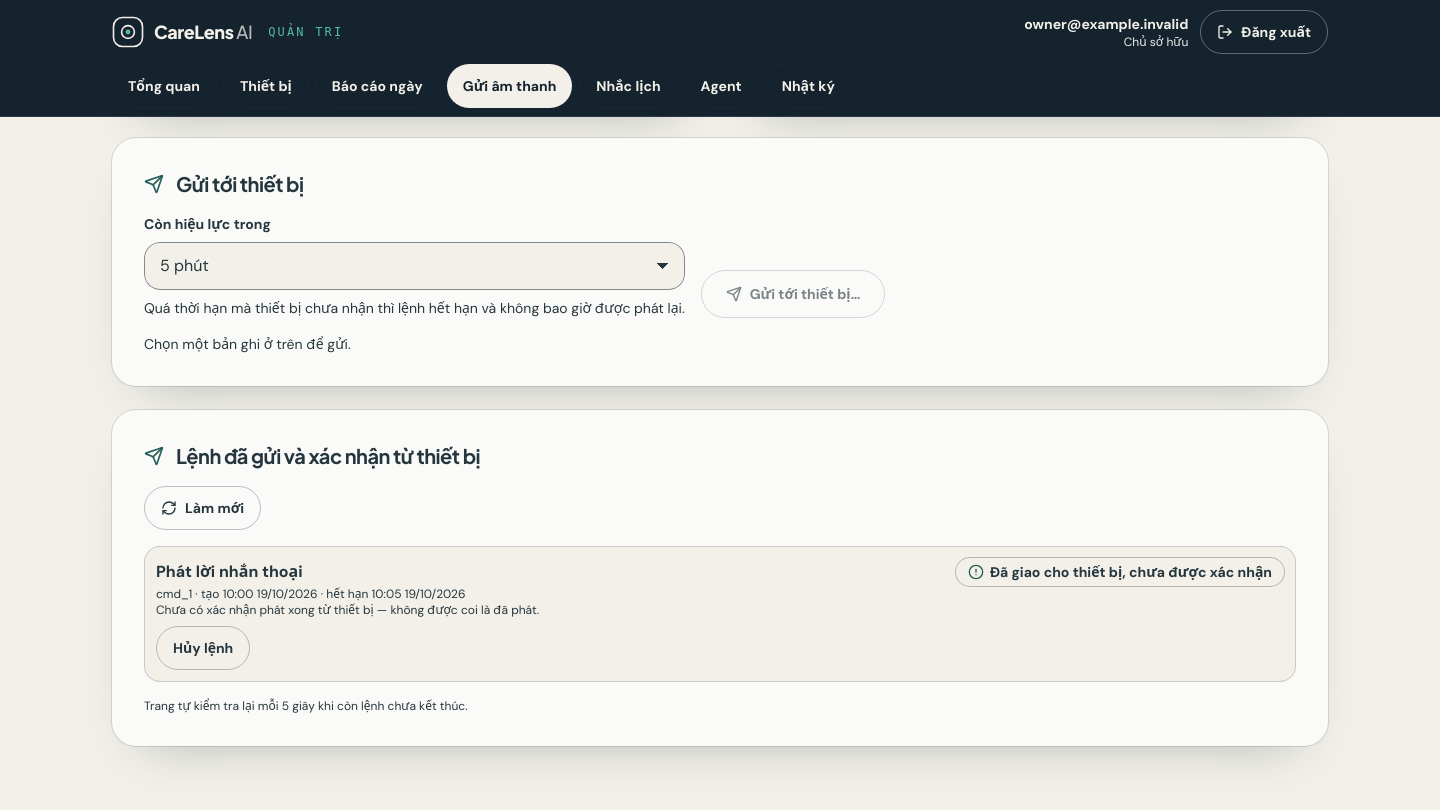
Test: audio messages › cancels an open command and says the device must still confirm
(page scrolled)
Click the button "Hủy lệnh" at x=203, y=648, box [156, 626, 250, 670]
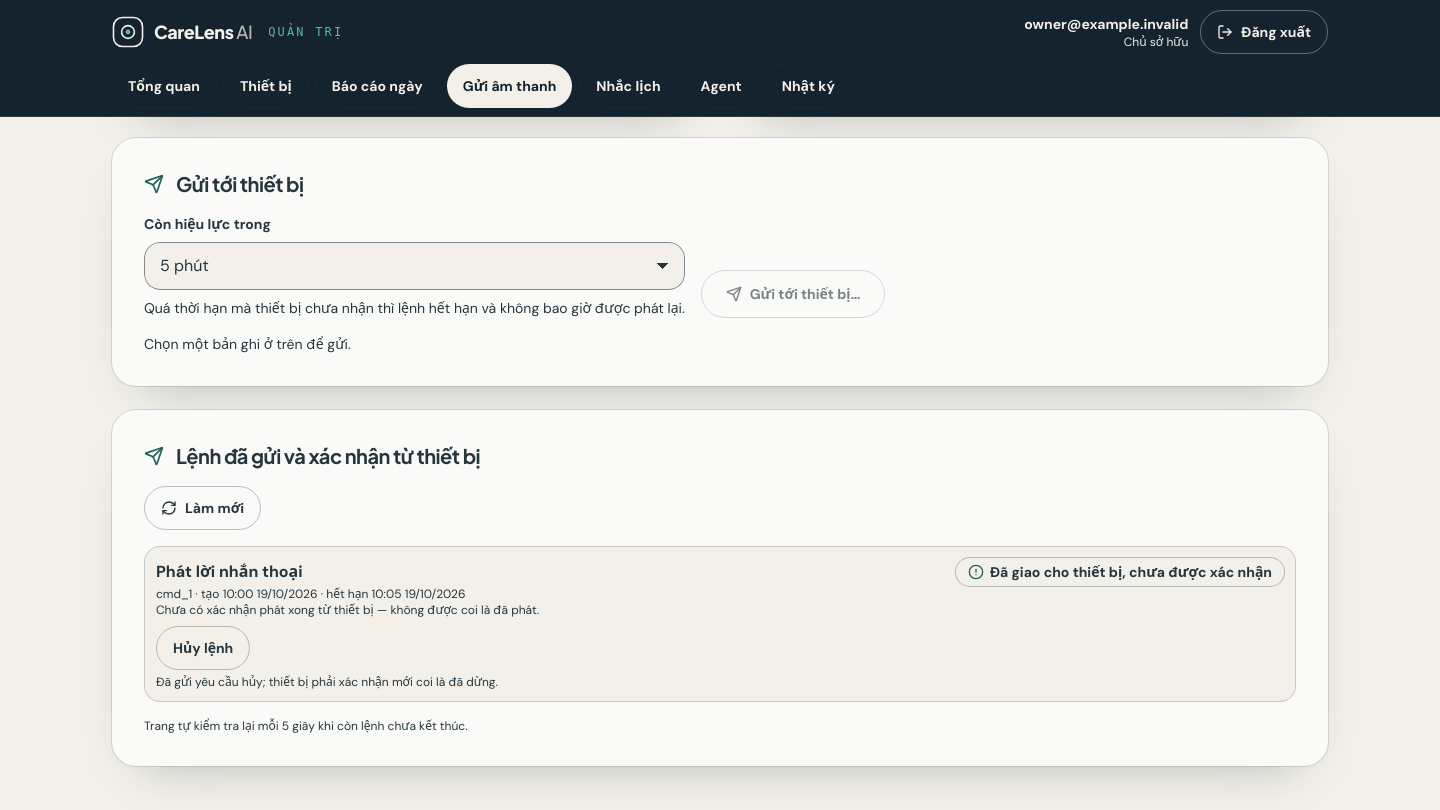
Expected: the text "Đã gửi yêu cầu hủy; thiết bị phải xác nhận mới coi là đã dừng." is shown, [156, 674, 498, 690]
